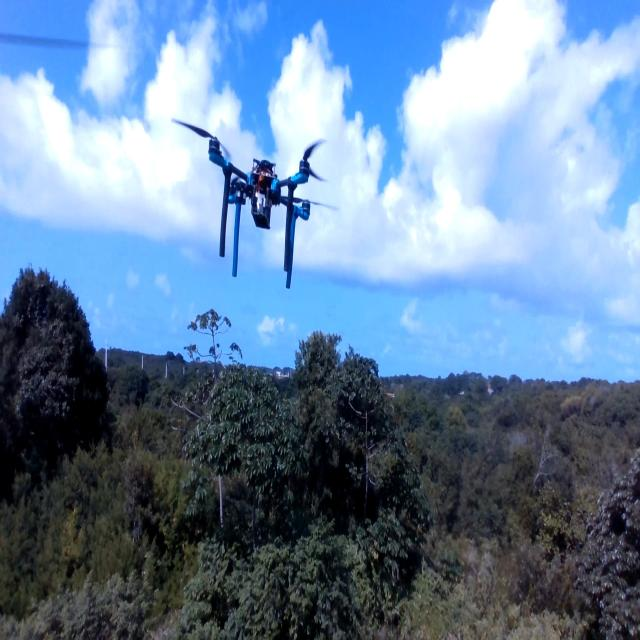-uav-: (166, 93, 347, 314)
